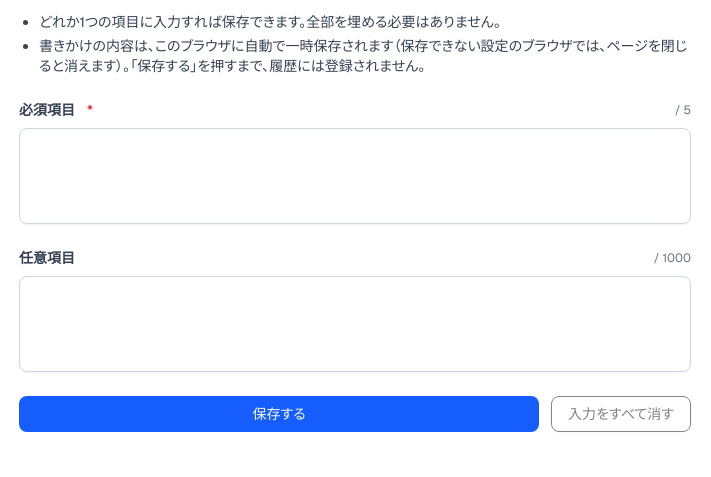
Test case: ReflectionForm 保存時の検証エラーの消去 › 保存時の検証に失敗したら、最初のエラー項目にフォーカスが移る
Type "x" into the text box labelled "任意項目" at (355, 324), box [19,276,691,372]
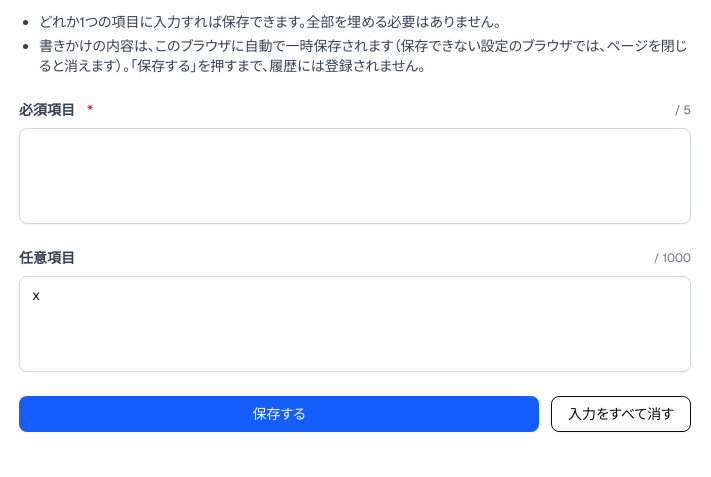
Click the button "保存する" at (279, 414), box [19,396,539,432]
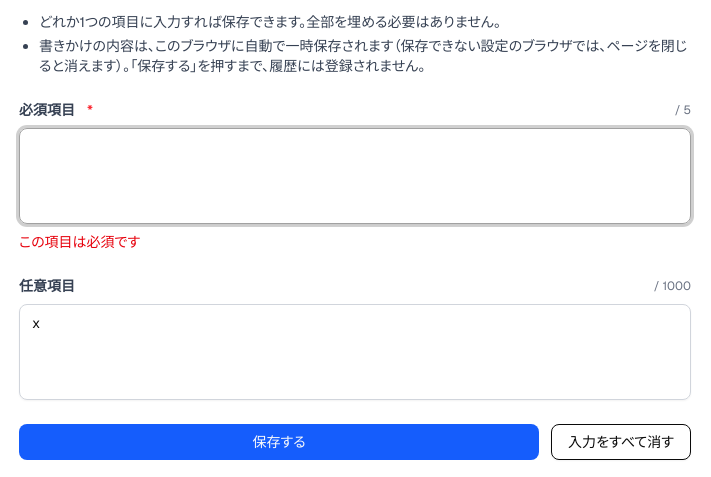
Now the text "この項目は必須です" is shown, box [19,233,140,251]
